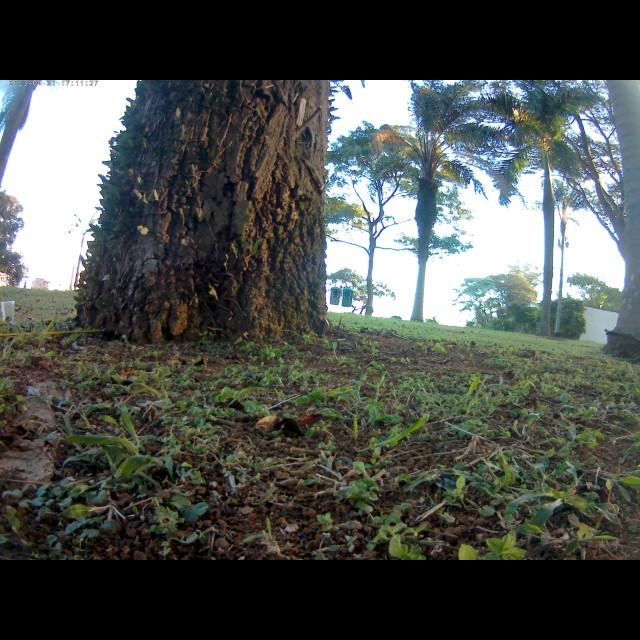arvore: (74, 80, 340, 363)
